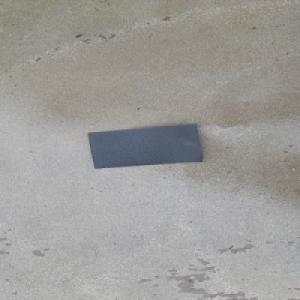PaintChip: (87, 123, 203, 169)
